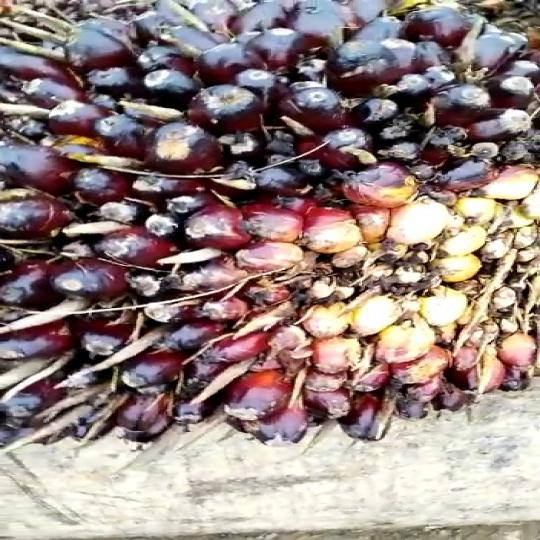kurang masak: (0, 0, 540, 475)
